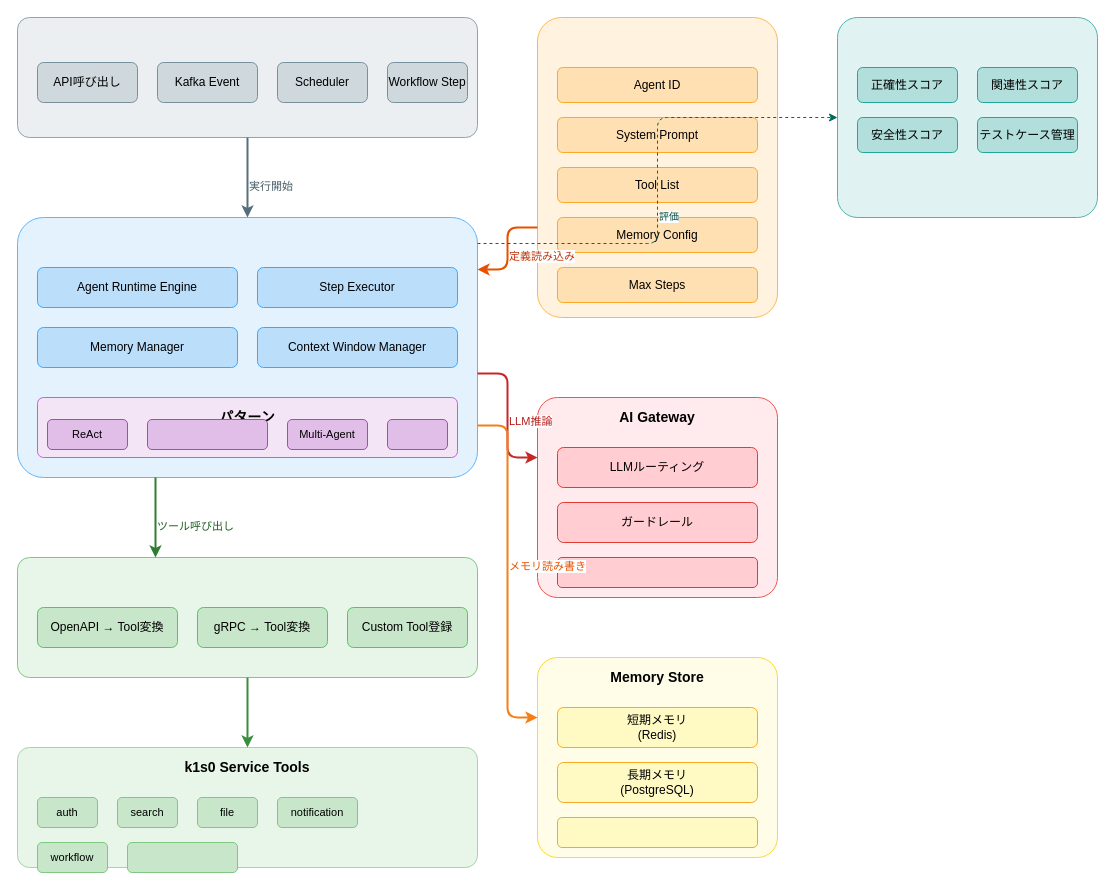
The diagram is 1115 pixels wide and 890 high, and some of its shapes have lost their labels. The shapes that lost their labels are listed below. From the top down, each one's box as (x1, y1, x2, y2) in pixels, then its label:
(16, 16, 478, 138): 実行トリガー
(836, 16, 1098, 218): 評価フレームワーク
(536, 16, 778, 318): Agent Definition (YAML)
(16, 216, 478, 478): Agent Runtime (Rust axum)
(146, 418, 268, 450): Plan-and-Execute
(386, 418, 448, 450): Human-in-the-Loop
(556, 556, 758, 588): トークン管理
(16, 556, 478, 678): Tool Registry
(556, 816, 758, 848): ベクトルメモリ (Qdrant)
(126, 842, 238, 872): rule-engine API
